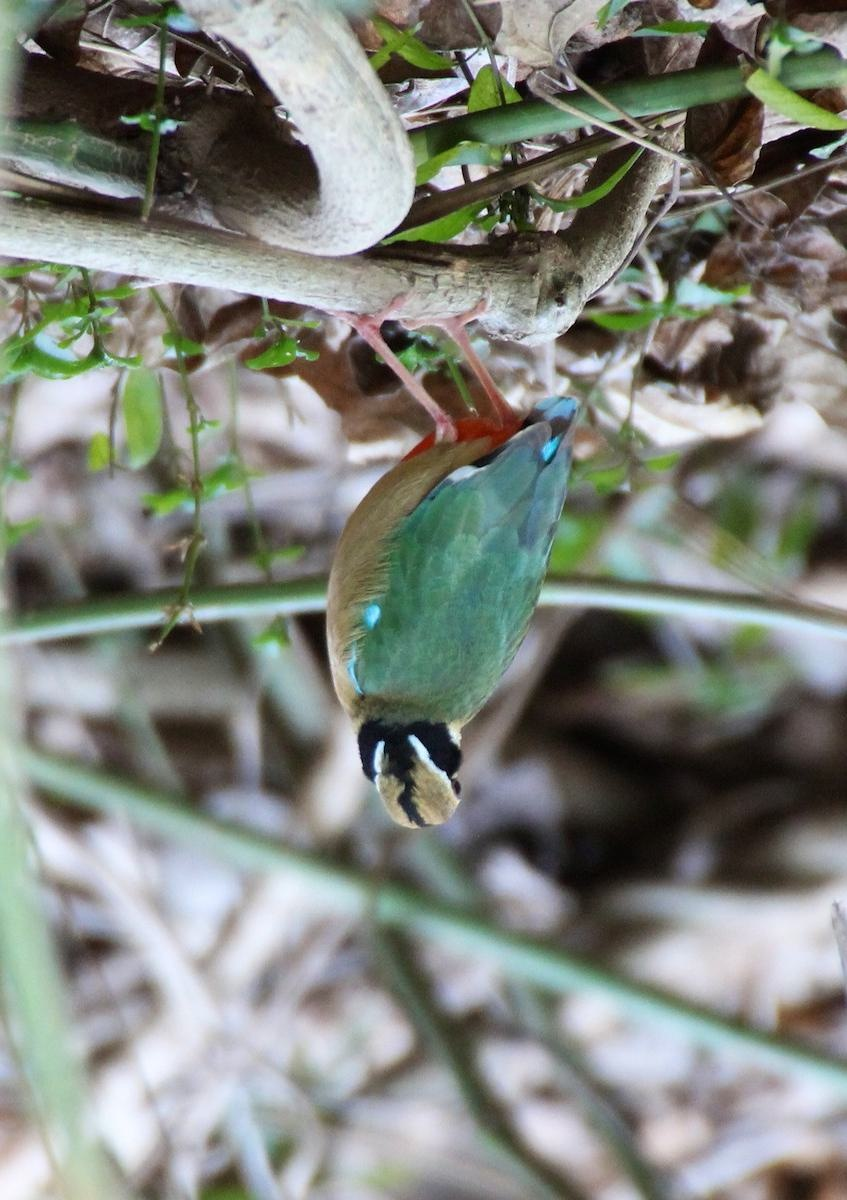pitta: (267, 299, 612, 895)
